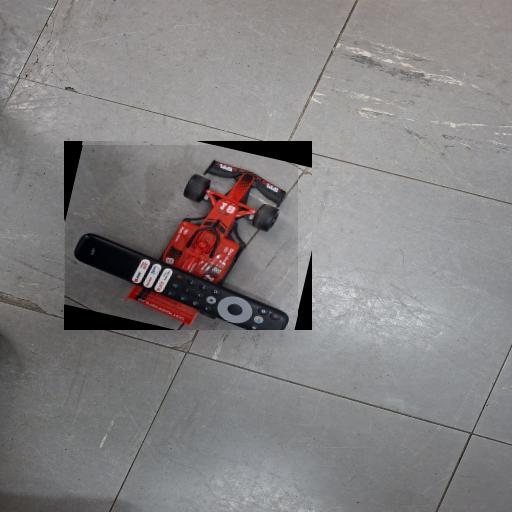carro: (65, 145, 297, 330)
